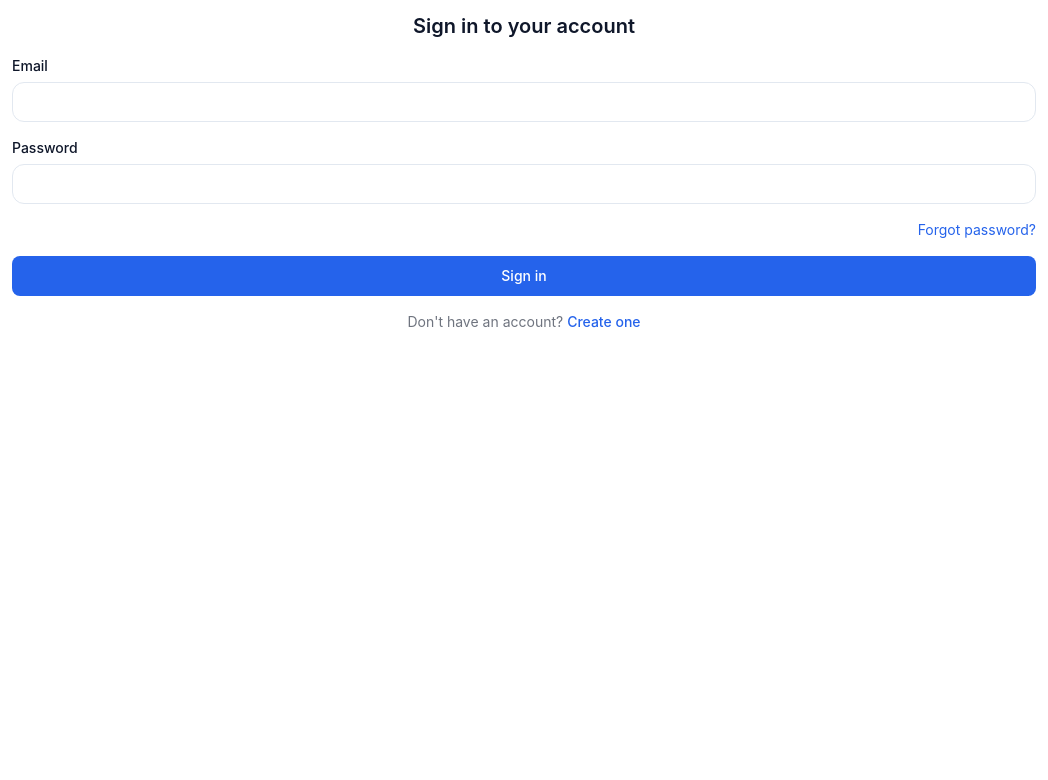
Test: LoginPage (integration) › logs the user in, stores the session, and redirects to home on success
Type "jane@example.com" into the field labelled "Email" at (524, 102), box x1=12 y1=82 x2=1036 y2=122
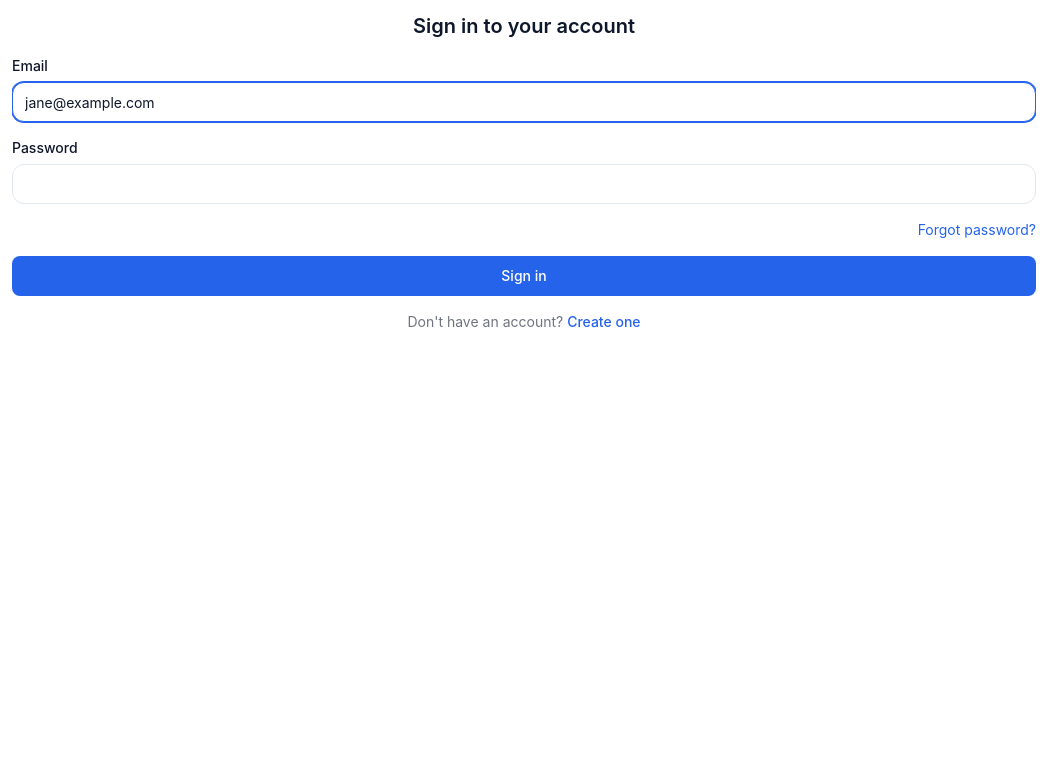
Type "Password123!" into the password field labelled "Password" at (524, 184), box x1=12 y1=164 x2=1036 y2=204
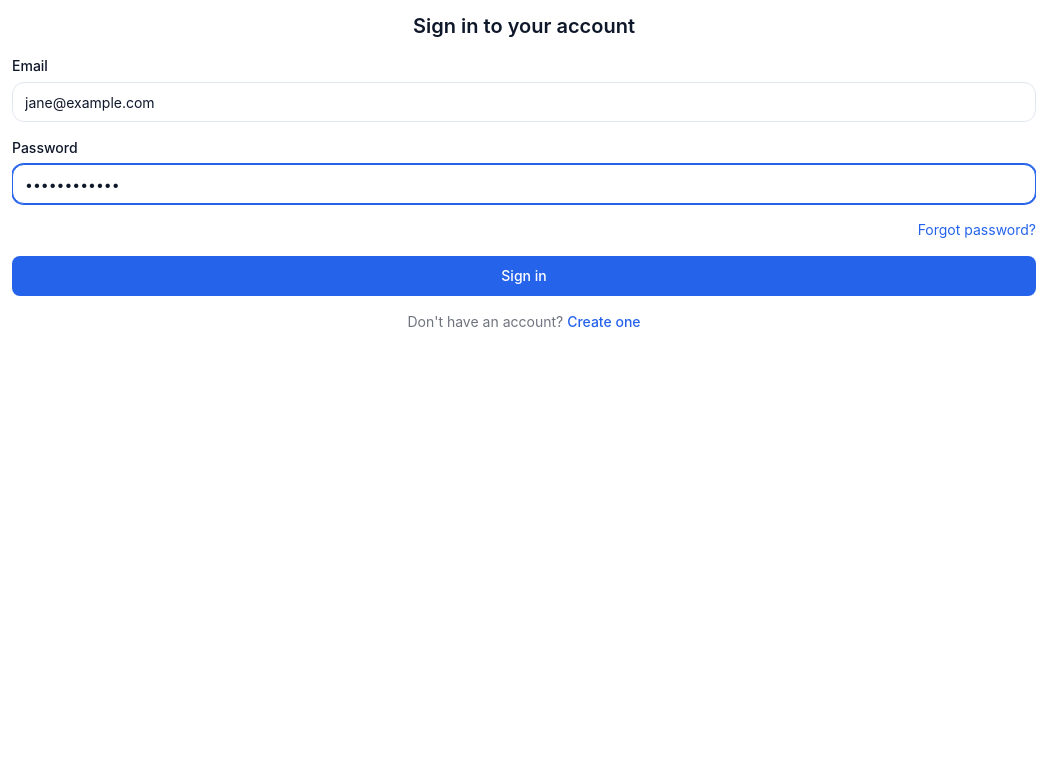
Click the button "Sign in" at (524, 276), box x1=12 y1=256 x2=1036 y2=296
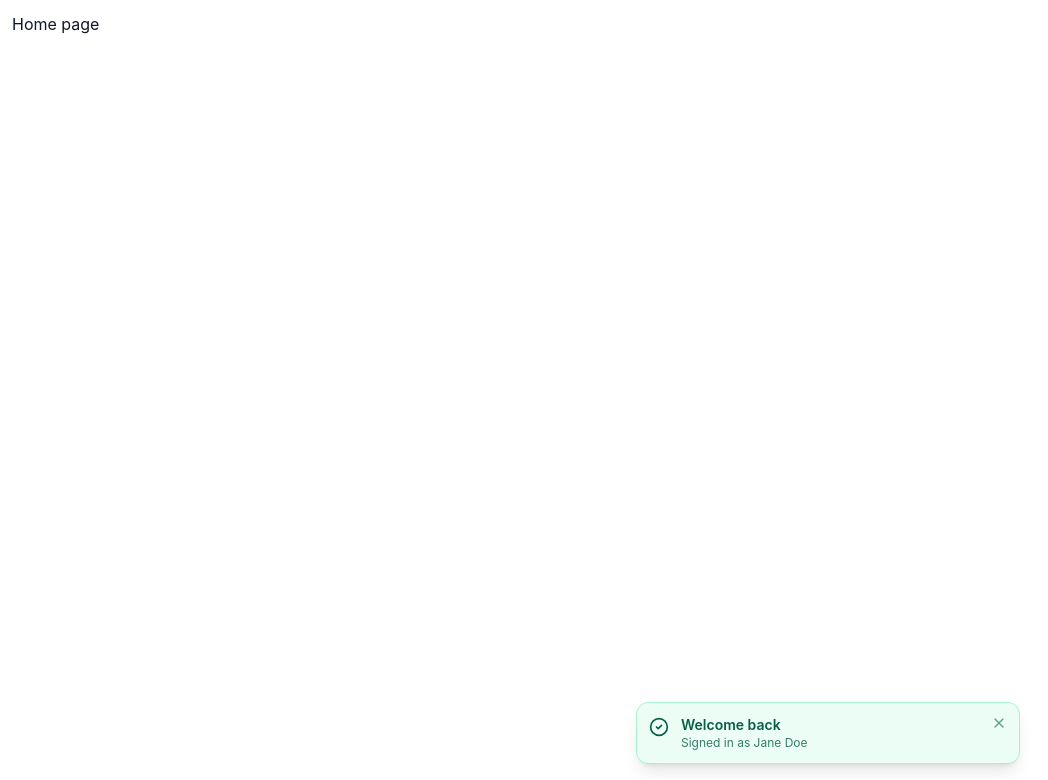
Expected: the text "Home page" is shown, x1=12 y1=14 x2=99 y2=34
